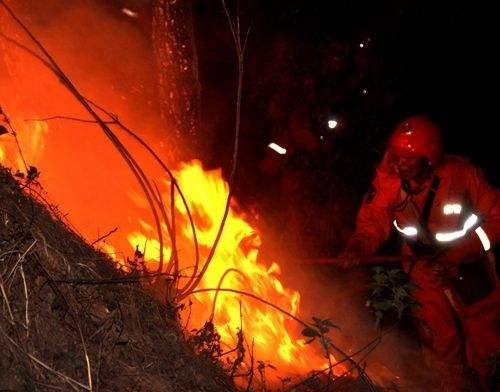fire: (123, 157, 310, 371)
